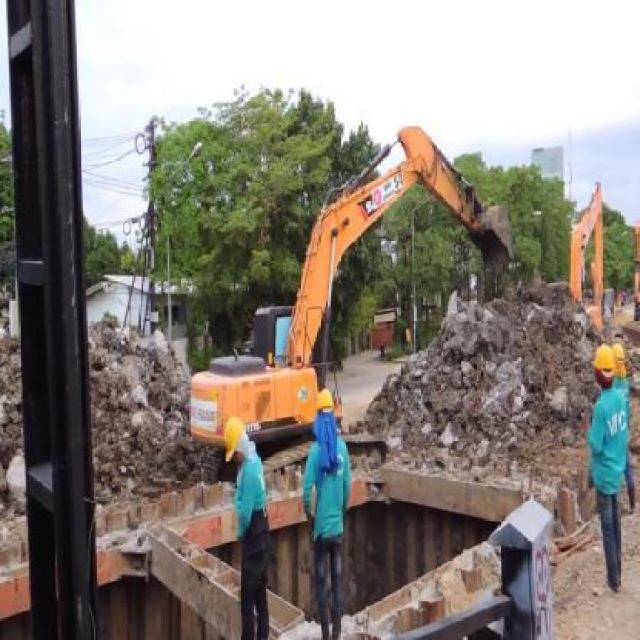Excavator: (186, 108, 522, 472), (561, 178, 619, 334)
